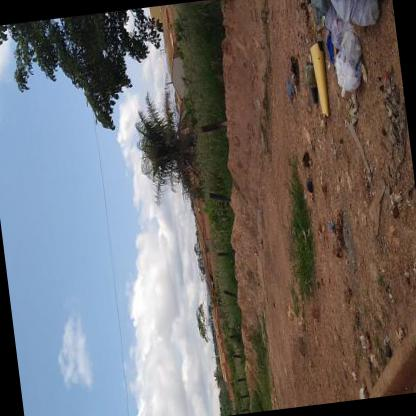lixo: (298, 0, 391, 113)
